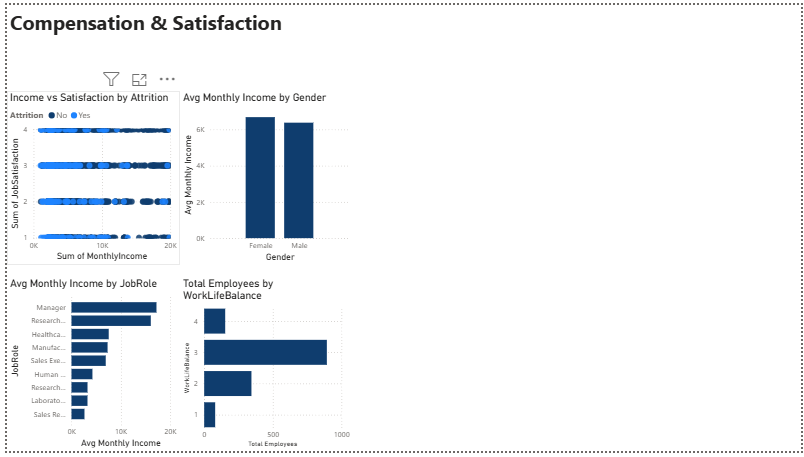

The dashboard page shown, as its layout file describes it:
{"tool":"powerbi","page":{"name":"Compensation & Satisfaction","canvas":[1280,720],"ordinal":2},"visuals":[{"type":"scatterChart","fields":{"X":["Sum(WA_Fn-UseC_-HR-Employee-Attrition.MonthlyIncome)"],"Y":["Sum(WA_Fn-UseC_-HR-Employee-Attrition.JobSatisfaction)"],"Series":["WA_Fn-UseC_-HR-Employee-Attrition.Attrition"],"Category":["WA_Fn-UseC_-HR-Employee-Attrition.EmployeeNumber"]},"box":[0,139.3,278.6,280.4],"z":0},{"type":"clusteredBarChart","fields":{"Category":["WA_Fn-UseC_-HR-Employee-Attrition.JobRole"],"Y":["WA_Fn-UseC_-HR-Employee-Attrition.Avg Monthly Income"]},"box":[0,439.3,278.6,280.4],"z":1000},{"type":"clusteredColumnChart","fields":{"Y":["WA_Fn-UseC_-HR-Employee-Attrition.Avg Monthly Income"],"Category":["WA_Fn-UseC_-HR-Employee-Attrition.Gender"]},"box":[278.6,139.3,278.6,280.4],"z":2000},{"type":"clusteredBarChart","fields":{"Category":["WA_Fn-UseC_-HR-Employee-Attrition.WorkLifeBalance"],"Y":["WA_Fn-UseC_-HR-Employee-Attrition.Total Employees"]},"box":[278.6,439.3,278.6,280.4],"z":3000},{"type":"textbox","box":[0,0,848.2,82.1],"z":4000}]}

Visuals, with their boxes in screenshot pixels (x1, y1, x2, y2), scaled from the page's 1280x720 canvas onto the 804x457 screenshot:
scatterChart - Sum(WA_Fn-UseC_-HR-Employee-Attrition.MonthlyIncome) x Sum(WA_Fn-UseC_-HR-Employee-Attrition.JobSatisfaction): detection(0, 88, 175, 266)
clusteredBarChart - WA_Fn-UseC_-HR-Employee-Attrition.JobRole x WA_Fn-UseC_-HR-Employee-Attrition.Avg Monthly Income: detection(0, 279, 175, 456)
clusteredColumnChart - WA_Fn-UseC_-HR-Employee-Attrition.Avg Monthly Income x WA_Fn-UseC_-HR-Employee-Attrition.Gender: detection(175, 88, 350, 266)
clusteredBarChart - WA_Fn-UseC_-HR-Employee-Attrition.WorkLifeBalance x WA_Fn-UseC_-HR-Employee-Attrition.Total Employees: detection(175, 279, 350, 456)
textbox: detection(0, 0, 533, 52)
